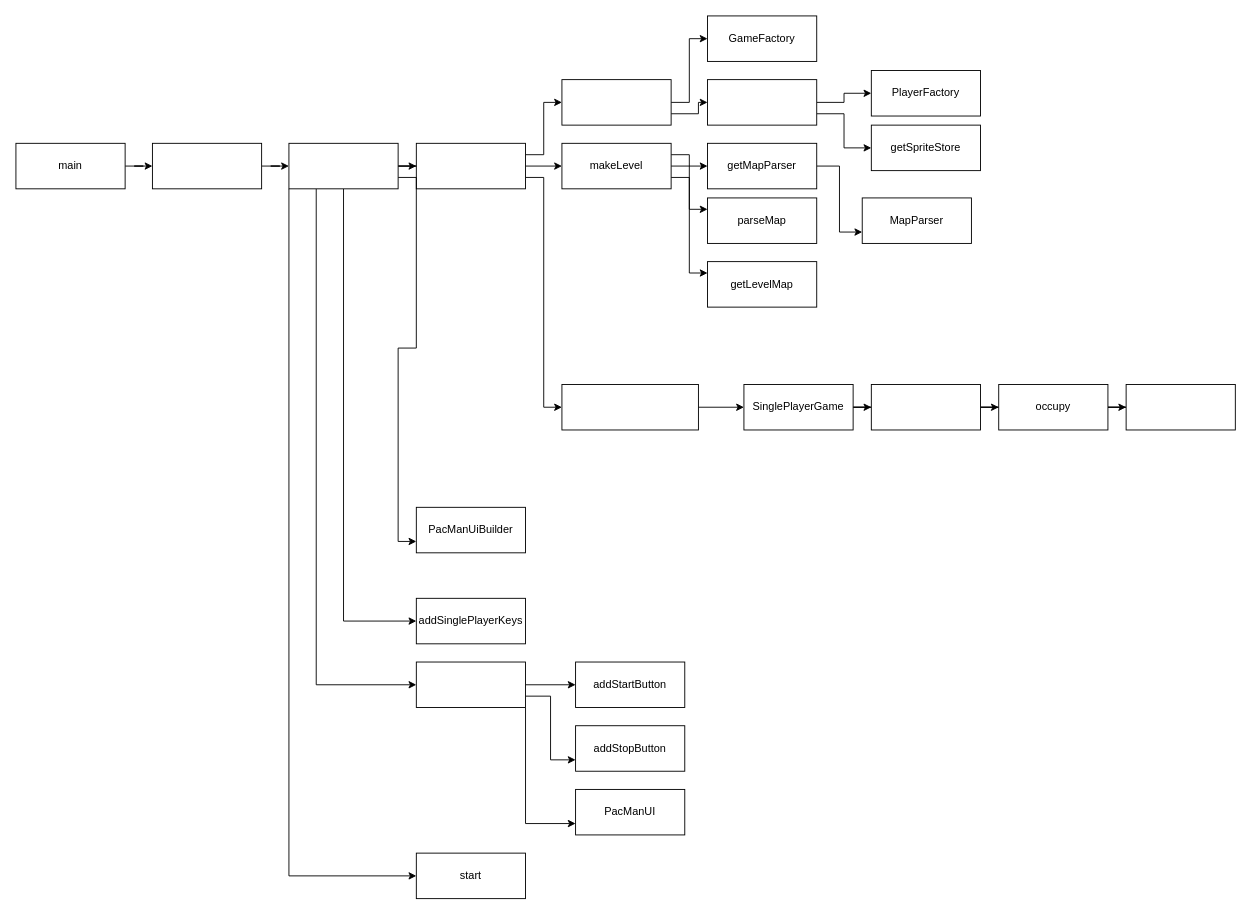
Image size: 1251x915. Some labels were removed from this diagram. Here are the shapes that lost their labels. From the top down, the centre of each, then its label:
the point at 616,102: getGameFactory
the point at 762,102: getPlayerFactory
the point at 207,165: Launcher
the point at 343,165: launch
the point at 470,165: makeGame
the point at 629,407: createSinglePlayerGame
the point at 925,407: registerPlayer
the point at 1180,407: put
the point at 470,684: build
